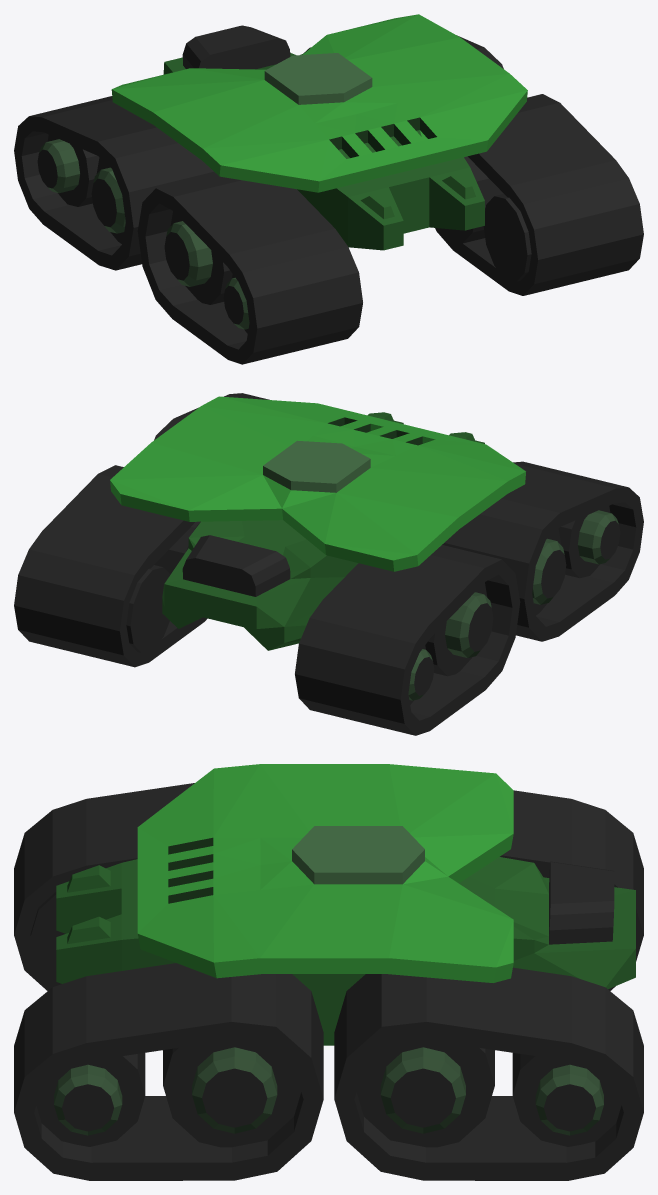
Rendered from 4-track_base.fbx.
3 views of the same model, one above another, from view 1: azimuth 30°, elevation 25°; view 2: azimuth 150°, elevation 25°; view 3: azimuth 270°, elevation 25° (orthographic). The views are drawn at different scales.
Visible parts, largest first — view 1: Cylinder.076, Plane.007, Cube.086, Cylinder.075, Cylinder.052; view 2: Cylinder.076, Plane.007, Cube.086, Cylinder.075, Cylinder.052; view 3: Cylinder.076, Plane.007, Cube.086, Cylinder.052, Cylinder.075.
Part boxes in pixels (x1,y1,x2,y2): Cylinder.076: (14,35,643,364); Plane.007: (111,14,527,192); Cube.086: (163,25,484,250); Cylinder.075: (37,134,531,333); Cylinder.052: (91,156,503,304); Cylinder.076: (14,393,643,735); Plane.007: (110,396,525,571); Cube.086: (162,412,484,650); Cylinder.075: (126,506,620,704); Cylinder.052: (154,521,566,676); Cylinder.076: (14,783,643,1180); Plane.007: (137,764,513,982); Cube.086: (56,857,635,1045); Cylinder.052: (163,1040,494,1147); Cylinder.075: (30,892,621,1146).
Size of the model in its own units: 193 by 77.27 by 210.
